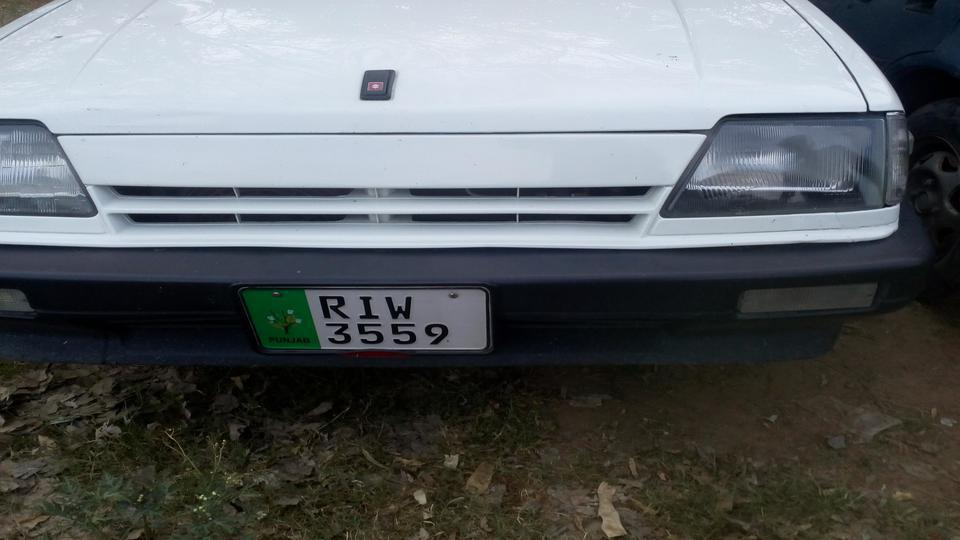NumberPlate: (233, 285, 499, 364)
